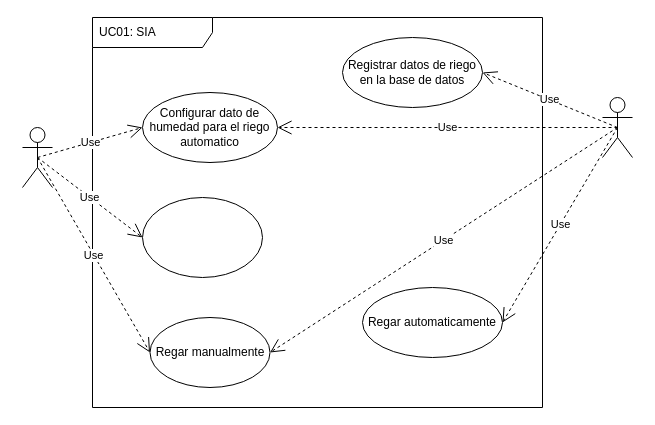
Some shapes in this 655 by 425 pixel diagram are drawn without their labels. The centre of each missing label's shape, as x and y in pixels:
"Arduino" belongs at point 617,127.
"Consultar datos del riego" belongs at point 202,237.
"Usuario" belongs at point 37,157.
